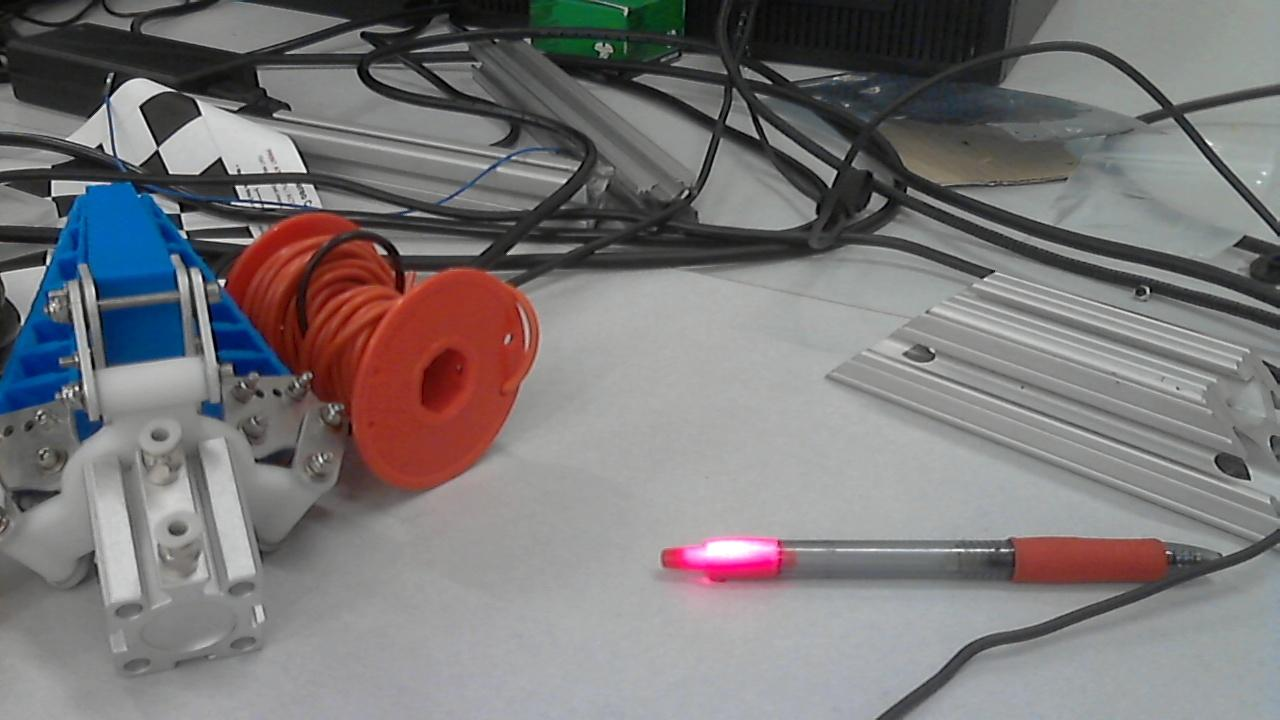Object ballpoint pen - Material plastic - Color red - Pdfname Tg2wygrqE5uZ: (674, 522, 795, 584)
